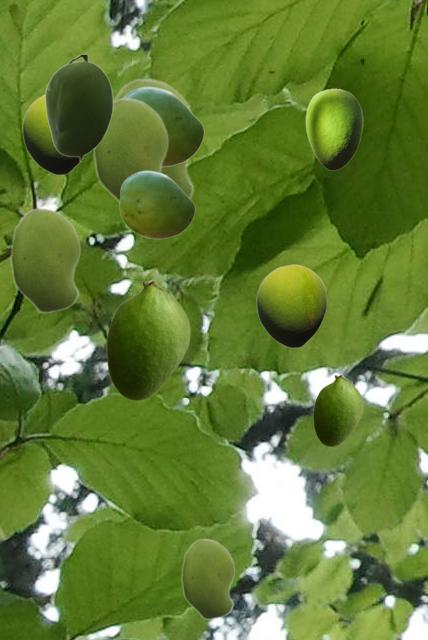green_mango: (113, 77, 196, 198), (106, 279, 189, 399), (93, 97, 168, 202), (10, 207, 80, 313), (44, 55, 112, 161), (123, 86, 203, 166), (256, 264, 326, 347), (119, 170, 194, 238), (22, 94, 85, 174), (305, 88, 362, 169), (181, 538, 234, 619), (313, 374, 362, 445)
